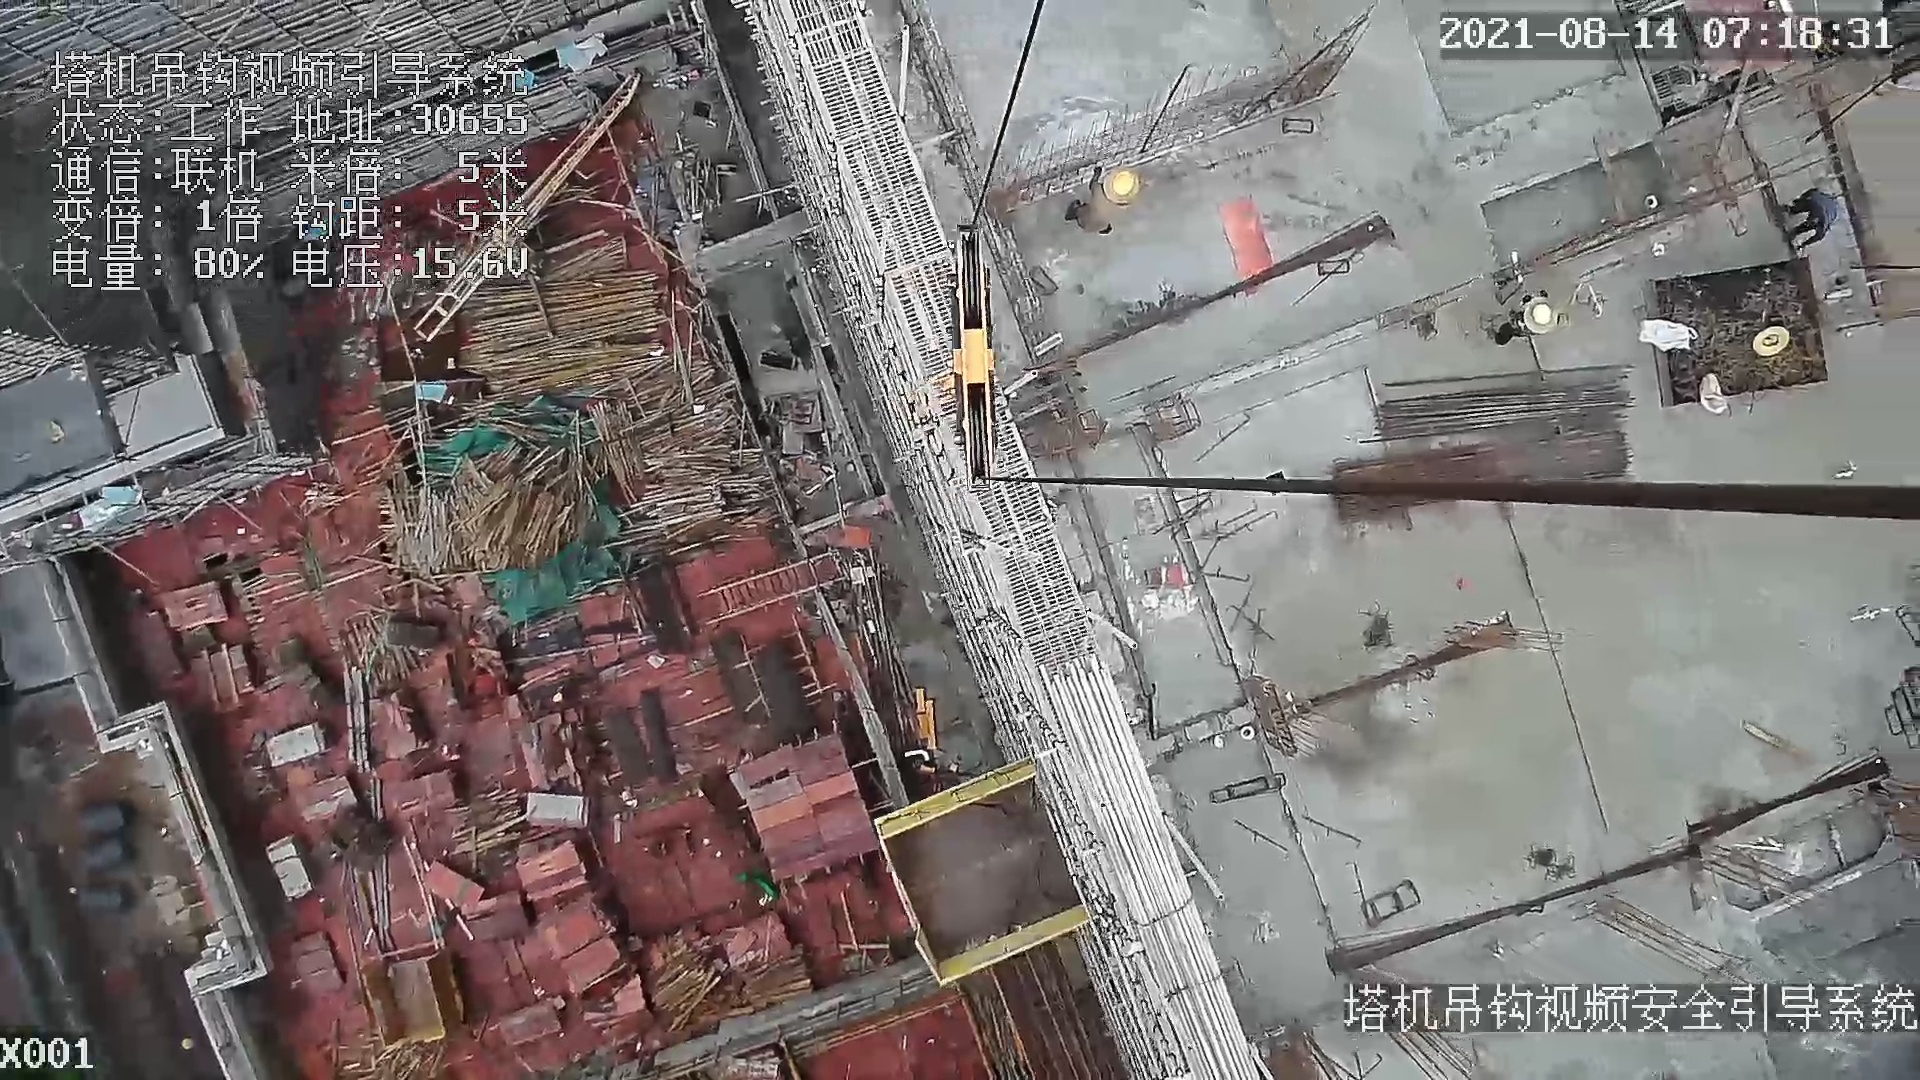helmet: (1110, 167, 1143, 194), (1528, 300, 1552, 328)
hook: (918, 218, 1008, 500)
person: (1062, 159, 1135, 245), (1488, 292, 1565, 347)
